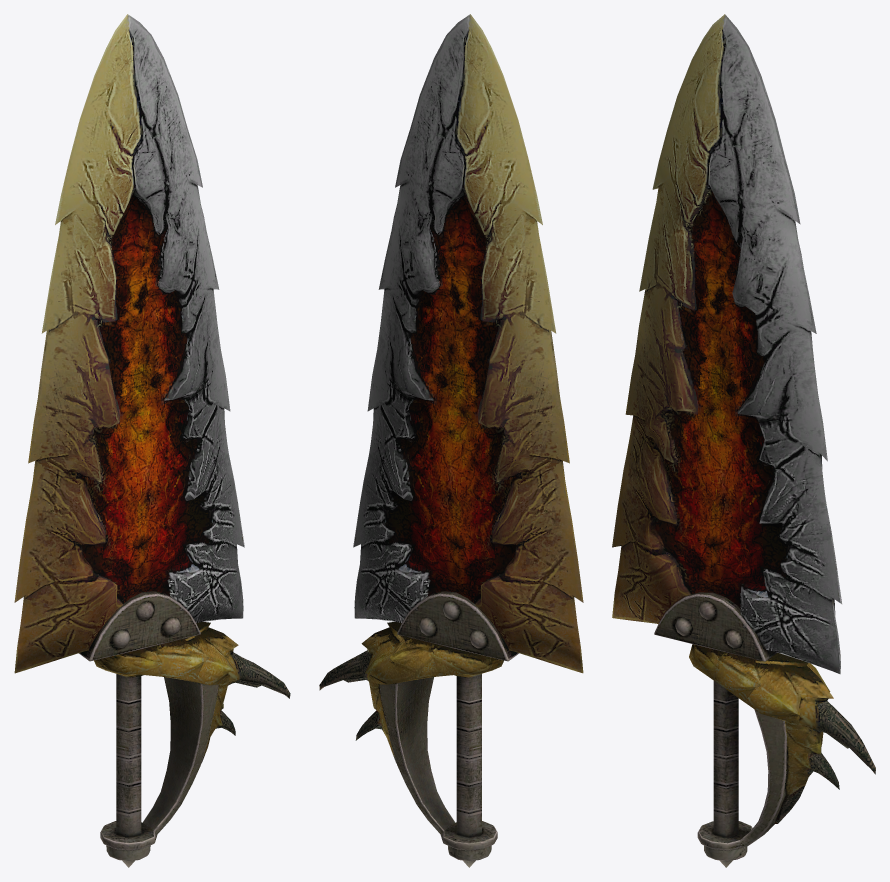
The model's file is one022.obj.
The picture shows the model from 3 angles, left to right: view 1: azimuth 30°, elevation 25°; view 2: azimuth 150°, elevation 25°; view 3: azimuth 330°, elevation 25°; orthographic projection.
Parts seen in each view (by area): view 1: one022_001_LOD_1, one022_000_LOD_1; view 2: one022_001_LOD_1, one022_000_LOD_1; view 3: one022_001_LOD_1, one022_000_LOD_1.
Part boxes in pixels (left/top/right/bottom): one022_001_LOD_1: left=14, top=14, right=244, bottom=673; one022_000_LOD_1: left=79, top=591, right=290, bottom=867; one022_001_LOD_1: left=353, top=14, right=583, bottom=673; one022_000_LOD_1: left=319, top=591, right=519, bottom=867; one022_001_LOD_1: left=612, top=14, right=841, bottom=674; one022_000_LOD_1: left=654, top=592, right=875, bottom=867.
Bounding box in the file's own units: 37.42 × 113 × 11.57.
